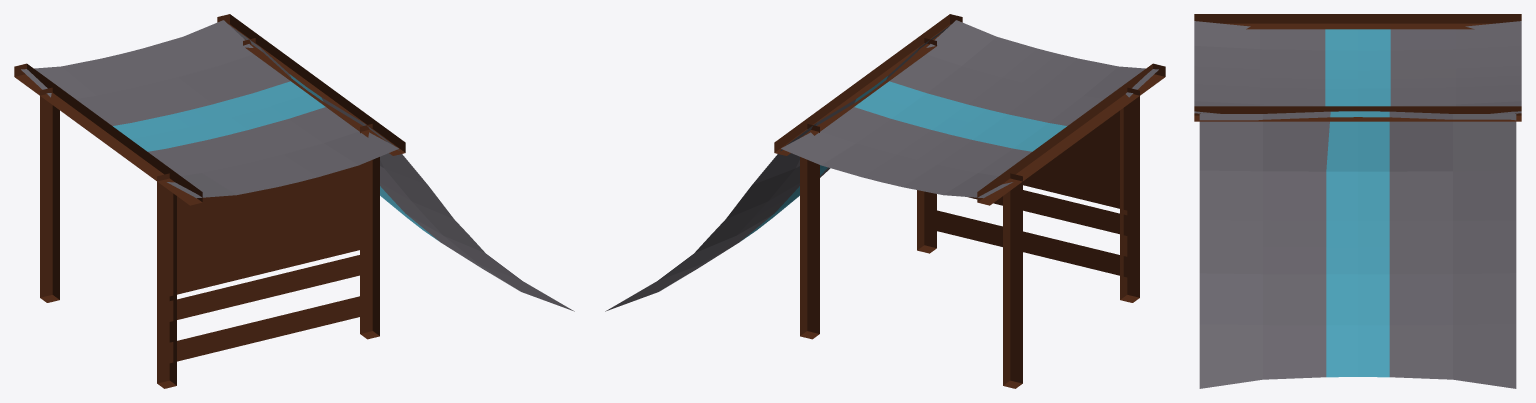
The model's file is AlmacenArtesanos.fbx.
3 views of the same model, side by side, from view 1: azimuth 30°, elevation 25°; view 2: azimuth 150°, elevation 25°; view 3: azimuth 270°, elevation 25° (orthographic). The views are drawn at different scales.
Visible parts, largest first — view 1: Almacen.003; view 2: Almacen.003; view 3: Almacen.003.
Part boxes in pixels (x1,y1,x2,y2): Almacen.003: [14, 14, 574, 388]; Almacen.003: [605, 14, 1165, 388]; Almacen.003: [1194, 14, 1521, 388].
Size of the model in its own units: 383 by 201 by 300.
